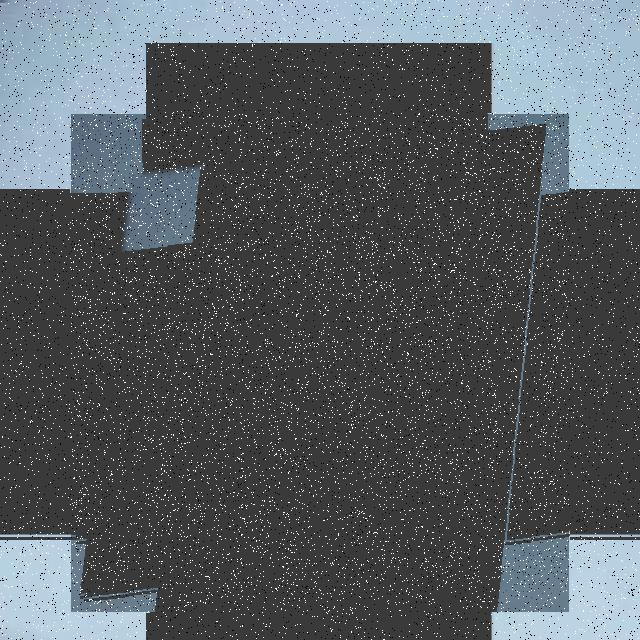dua ribu rupiah: (71, 114, 569, 612)
